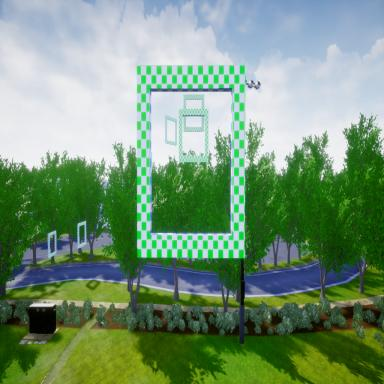gate: (136, 61, 247, 261), (178, 108, 209, 164), (183, 93, 205, 133), (164, 114, 178, 148)
